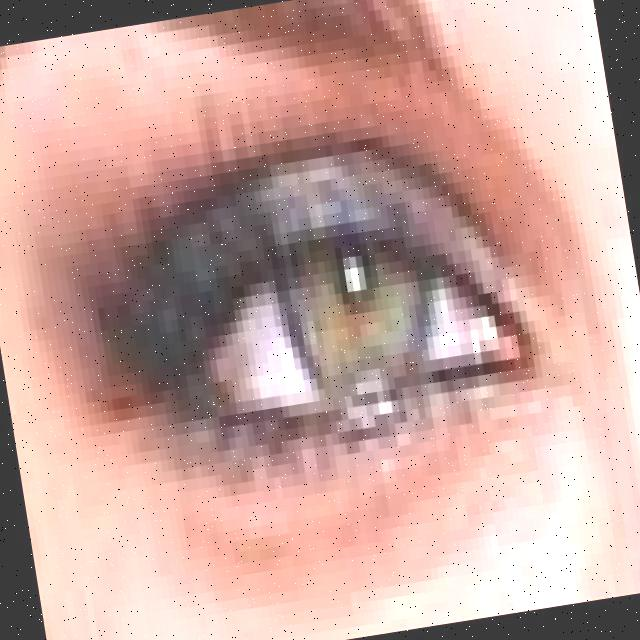Normal: (8, 118, 545, 519)
